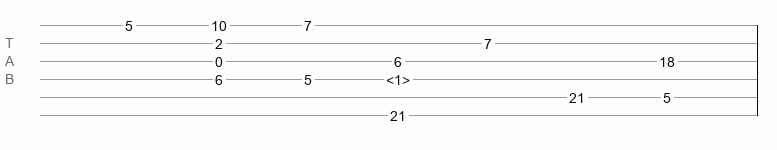0: (215, 54, 223, 64)
10: (211, 18, 227, 28)
18: (659, 54, 675, 64)
2: (215, 36, 223, 46)
21: (390, 108, 406, 118), (569, 90, 585, 100)
5: (125, 18, 133, 28), (304, 72, 312, 82), (663, 90, 671, 100)
6: (215, 72, 223, 82), (394, 54, 402, 64)
7: (304, 18, 312, 28), (484, 36, 492, 46)
harmonic: (386, 72, 410, 82)
